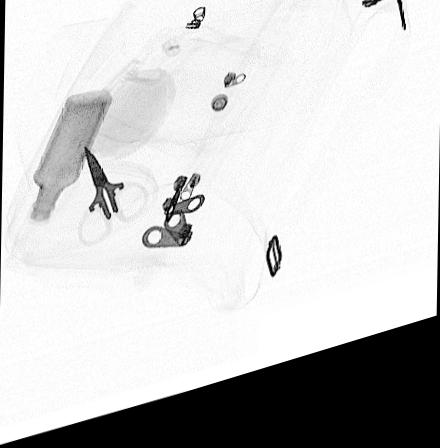Scissors: (72, 147, 149, 257)
